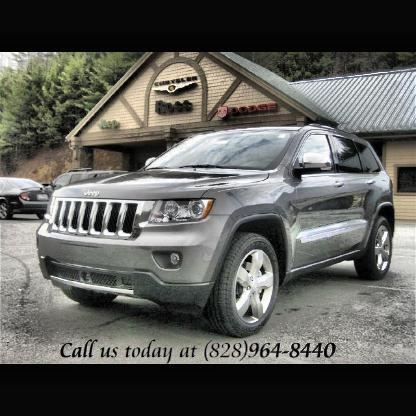Jeep Grand Cherokee SUV 2012: (38, 124, 397, 338)
